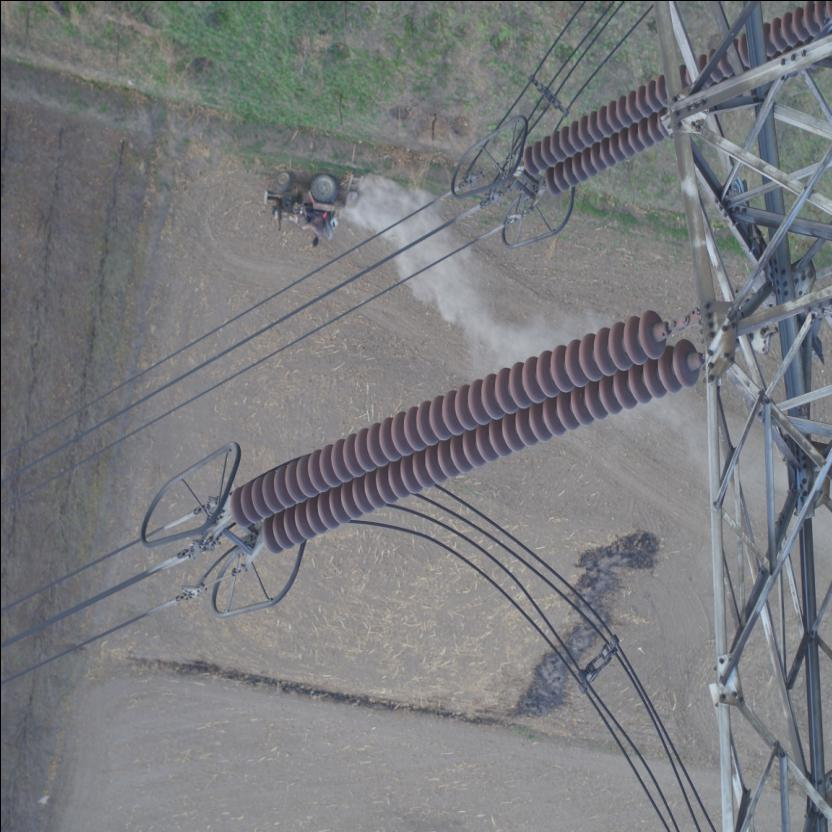insulator: (222, 307, 706, 561), (512, 79, 668, 207)
